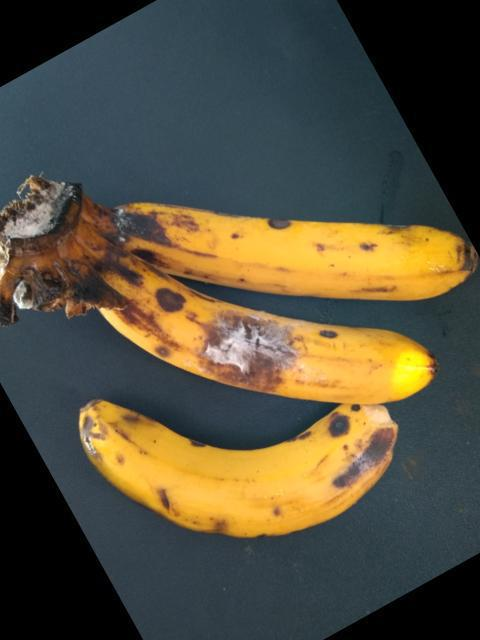overripe: (100, 260, 436, 421), (125, 173, 479, 324), (68, 395, 403, 542)
rotten: (175, 288, 324, 422)
